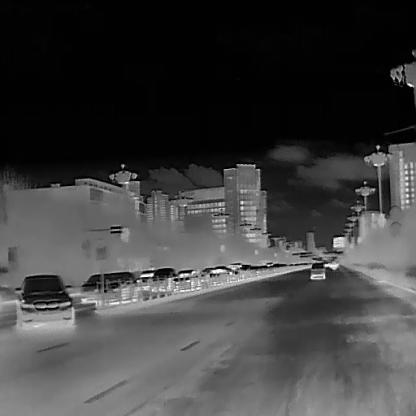car: (14, 274, 74, 330), (81, 270, 136, 304), (150, 266, 178, 291), (133, 269, 157, 291), (174, 268, 198, 290), (206, 265, 231, 284), (310, 262, 326, 280), (228, 262, 242, 280)
